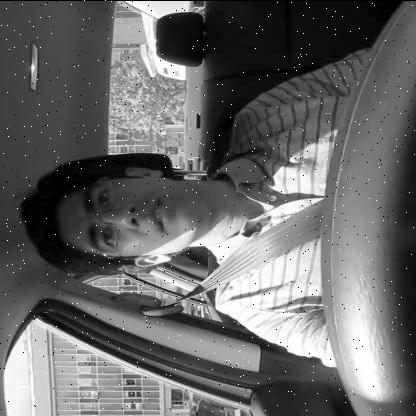seatbelt: (9, 152, 340, 320)
